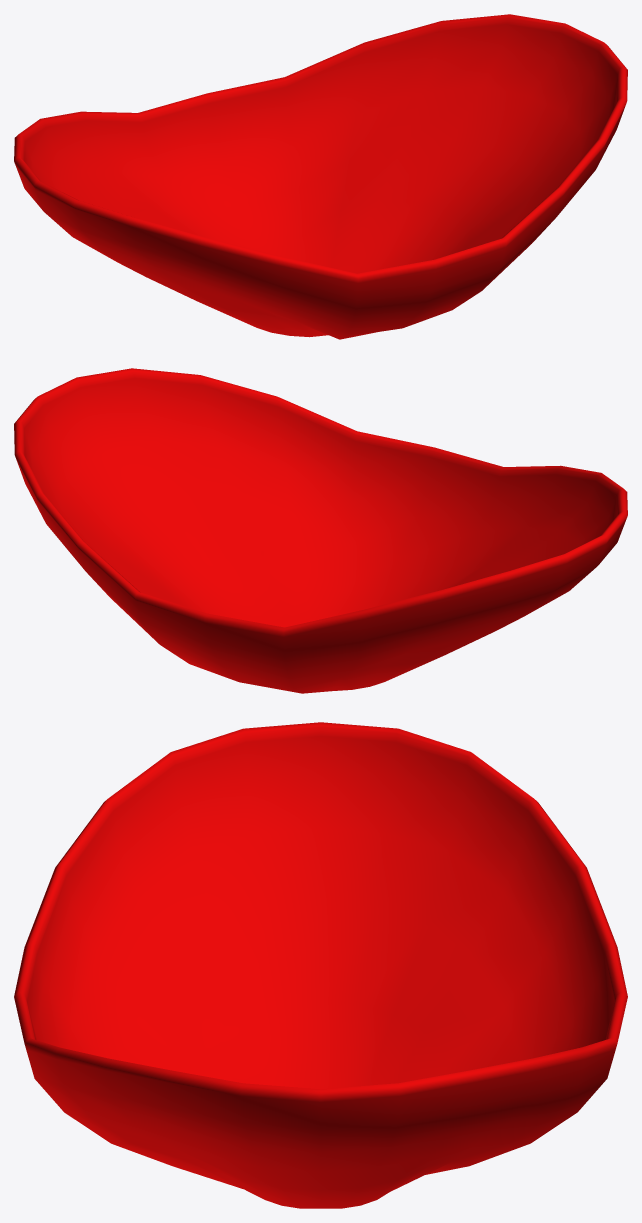
The model's file is tabletop_decor_grp.fbx.
3 renders of one model, top to bottom at view 1: azimuth 30°, elevation 25°; view 2: azimuth 150°, elevation 25°; view 3: azimuth 270°, elevation 25°, orthographic. The views are drawn at different scales.
Parts seen in each view (by area): view 1: tabletop_decor_1; view 2: tabletop_decor_1; view 3: tabletop_decor_1.
Part boxes in pixels (x1=…): tabletop_decor_1: x1=14, y1=14, x2=627, y2=339; tabletop_decor_1: x1=14, y1=368, x2=627, y2=693; tabletop_decor_1: x1=14, y1=722, x2=627, y2=1208.
Size of the model in its own units: 39.68 by 13.26 by 27.7.
